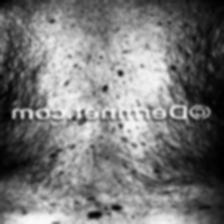Potentially Malignant Skin Tumors: (26, 10, 176, 106), (7, 125, 170, 185), (152, 197, 224, 224), (52, 198, 126, 224)
